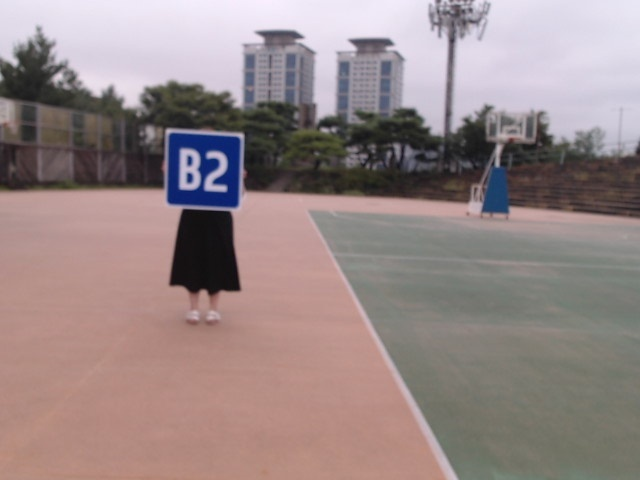delivery_b2: (165, 131, 243, 209)
